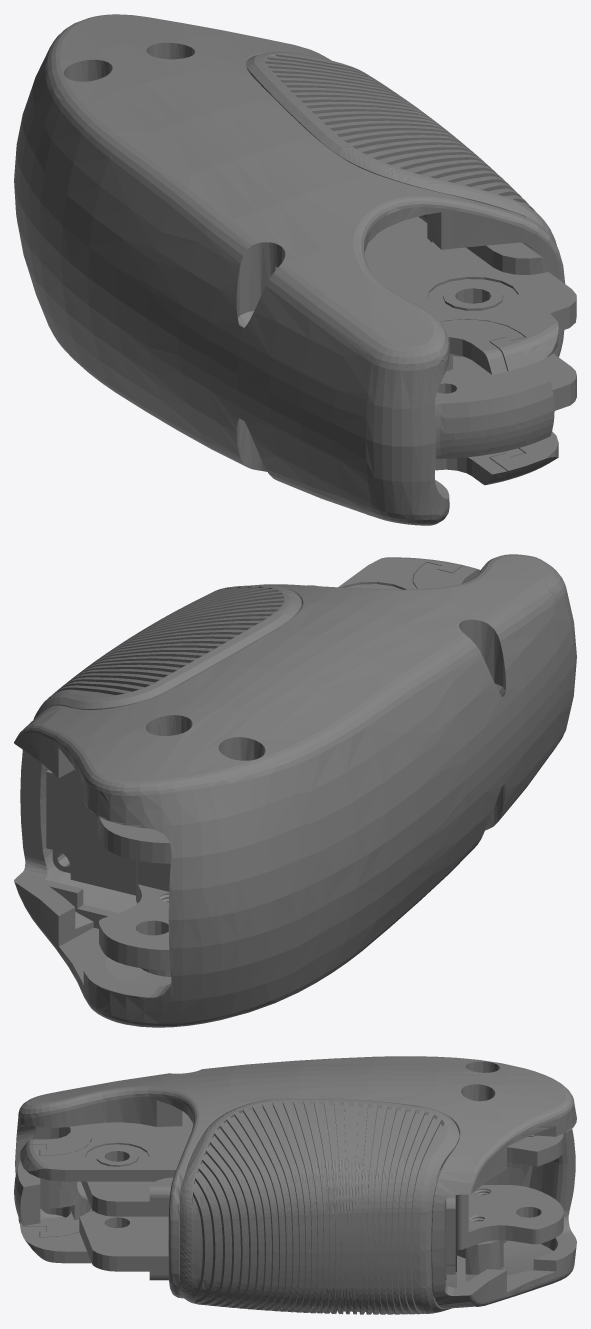
Rendered from lh_thumb_metacarpals_vis.obj.
3 renders of one model, top to bottom at view 1: azimuth 30°, elevation 25°; view 2: azimuth 150°, elevation 25°; view 3: azimuth 270°, elevation 25°, orthographic. The views are drawn at different scales.
Visible parts, largest first — view 1: lh_thumb_metacarpals; view 2: lh_thumb_metacarpals; view 3: lh_thumb_metacarpals.
Part boxes in pixels (x1,y1,x2,y2): lh_thumb_metacarpals: (14,14,576,525); lh_thumb_metacarpals: (14,554,576,1027); lh_thumb_metacarpals: (14,1056,576,1314).
Bounding box in the file's own units: 0.033 × 0.0254 × 0.0656.
Materials: 1 (1 with a texture image).
